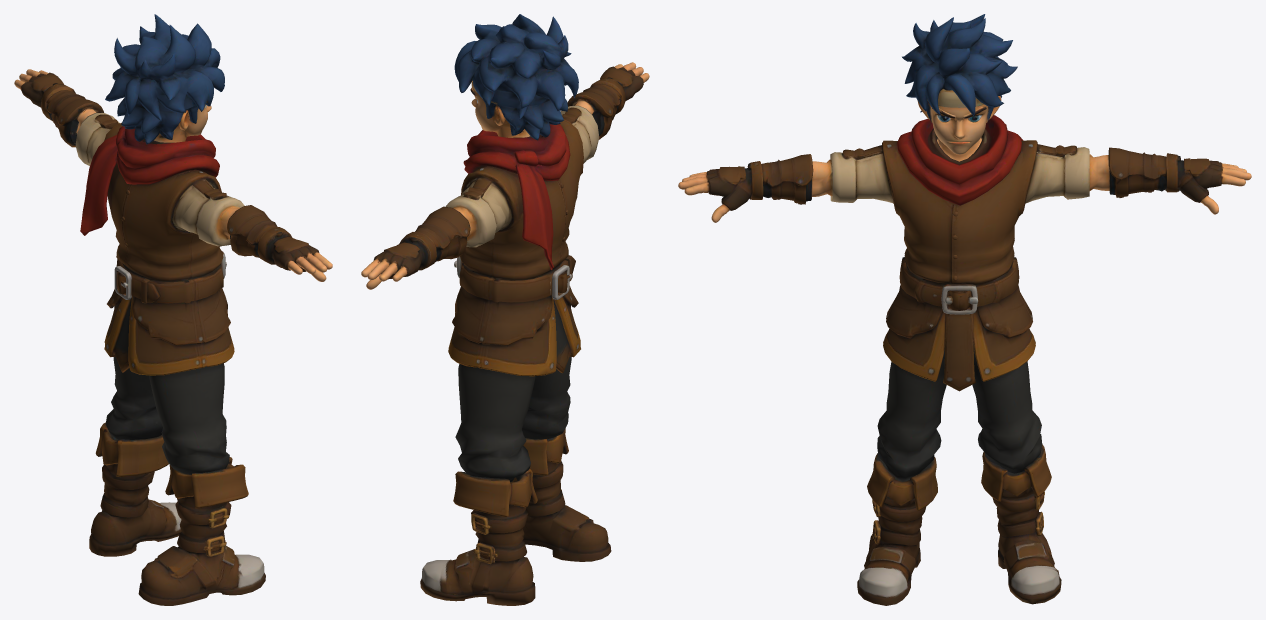
Rendered from Warrior_V3_candidate_01.glb.
3 views of the same model, side by side, from view 1: azimuth 30°, elevation 25°; view 2: azimuth 150°, elevation 25°; view 3: azimuth 270°, elevation 25° (orthographic). The views are drawn at different scales.
Parts seen in each view (by area): view 1: tripo_node_f0980b28; view 2: tripo_node_f0980b28; view 3: tripo_node_f0980b28.
Part boxes in pixels (bbox=[...]): tripo_node_f0980b28: bbox=[14, 14, 332, 605]; tripo_node_f0980b28: bbox=[361, 14, 649, 605]; tripo_node_f0980b28: bbox=[678, 14, 1251, 605].
Bounding box in the file's own units: 0.2358 × 0.9995 × 0.9292.
Materials: 1 (1 with a texture image).
